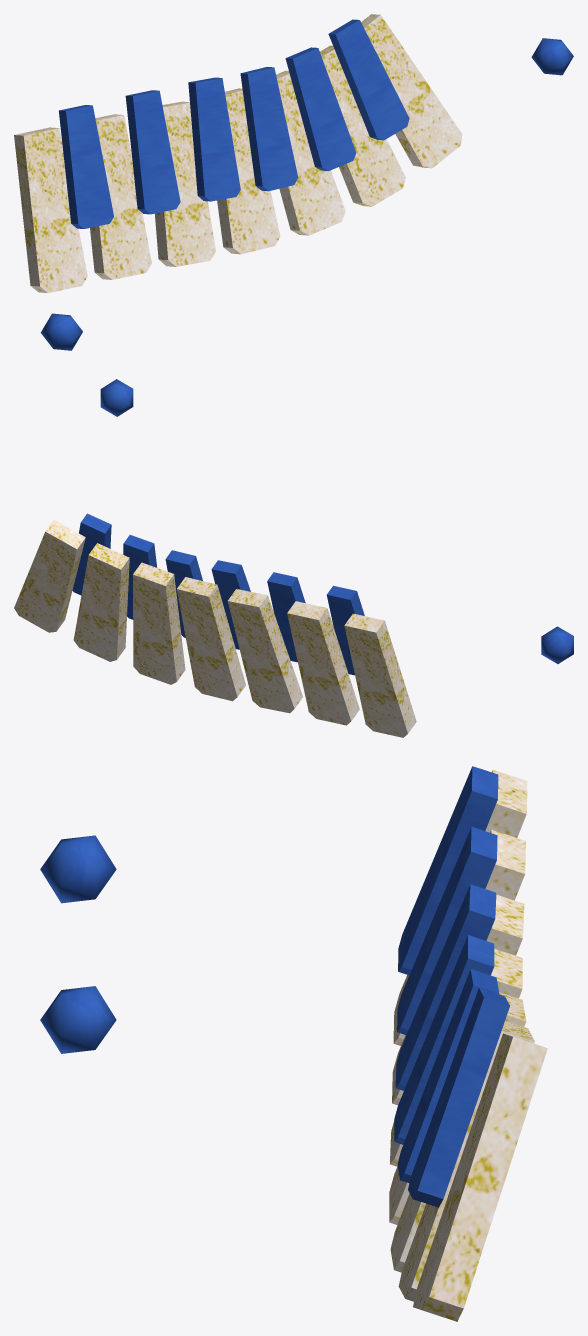
The model's file is instr_teclado.fbx.
3 views of the same model, one above another, from view 1: azimuth 30°, elevation 25°; view 2: azimuth 150°, elevation 25°; view 3: azimuth 270°, elevation 25° (orthographic). The views are drawn at different scales.
Parts seen in each view (by area): view 1: instr_teclado; view 2: instr_teclado; view 3: instr_teclado.
Boxes of the visible parts, x1,y1,x2,y2 form: instr_teclado: (14, 14, 573, 350); instr_teclado: (14, 379, 573, 737); instr_teclado: (40, 766, 547, 1321).
Size of the model in its own units: 93.49 by 39.02 by 43.7.
1 material, 1 textured.
